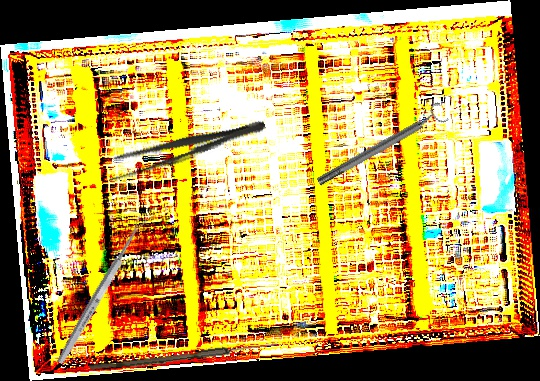Dressing Forceps: (102, 110, 269, 186)
Fixation Ring: (312, 100, 450, 192)
Surgical Spoon: (54, 215, 149, 366), (89, 338, 278, 375)
